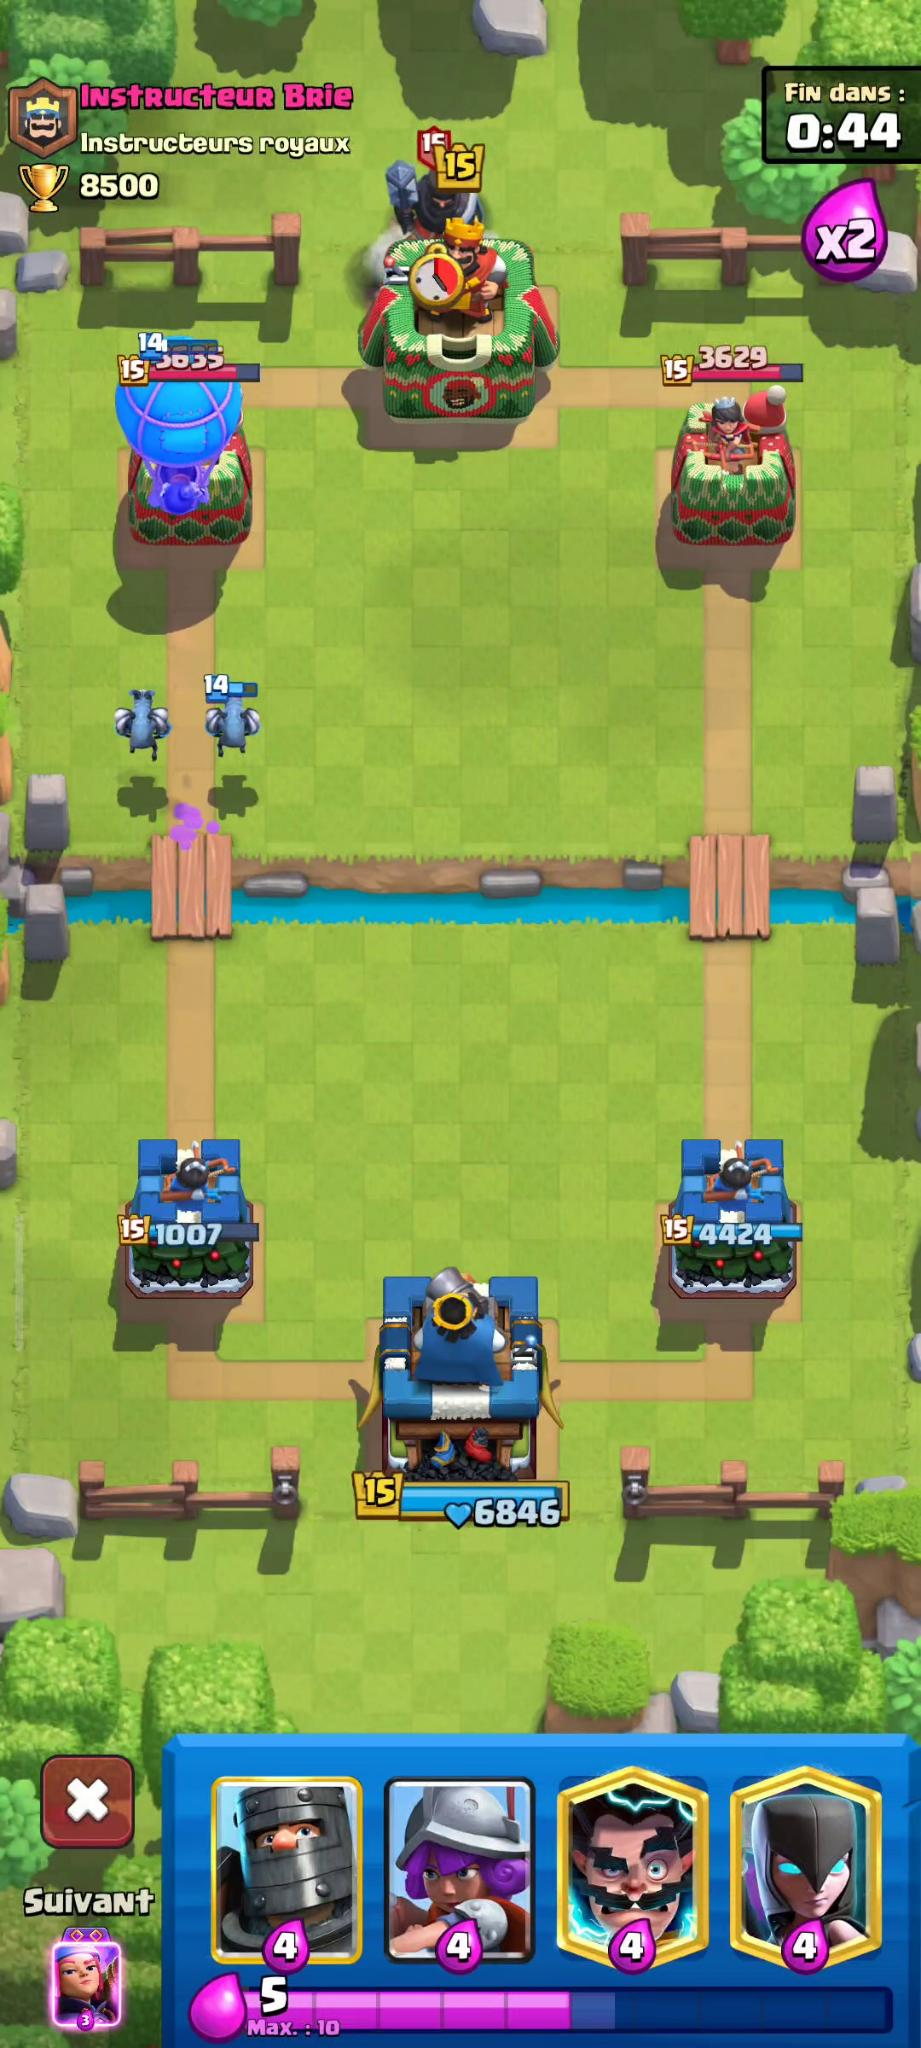gargouille: (201, 671, 267, 761), (115, 688, 176, 760)
